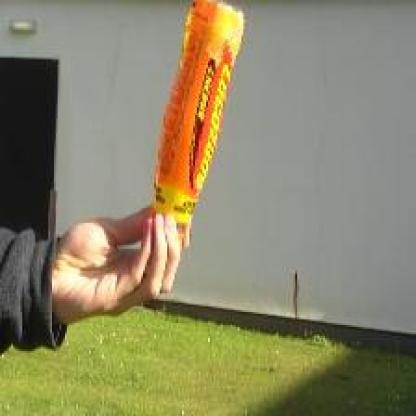other: (119, 1, 256, 242)
